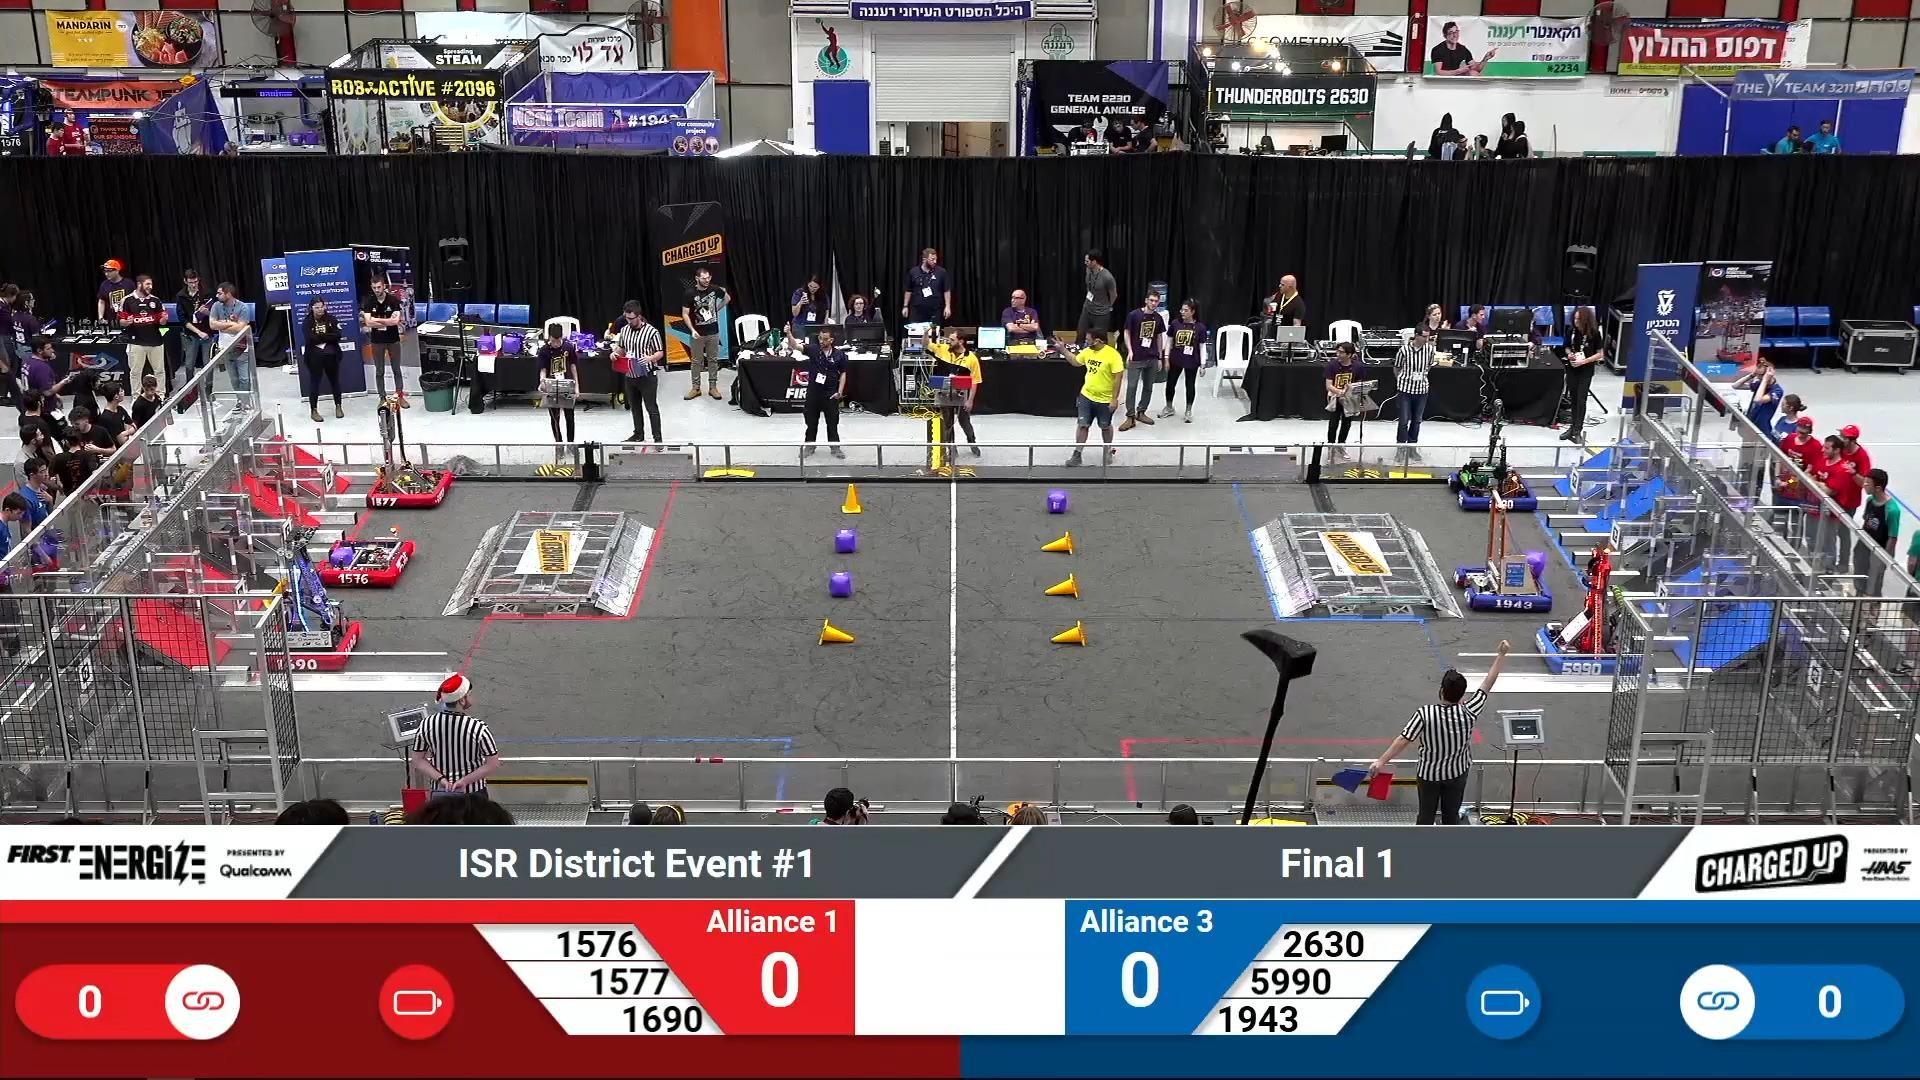robot: (261, 525, 361, 670), (1536, 539, 1640, 674), (1455, 489, 1555, 613), (1447, 396, 1539, 512), (367, 393, 454, 509), (316, 533, 417, 587)
